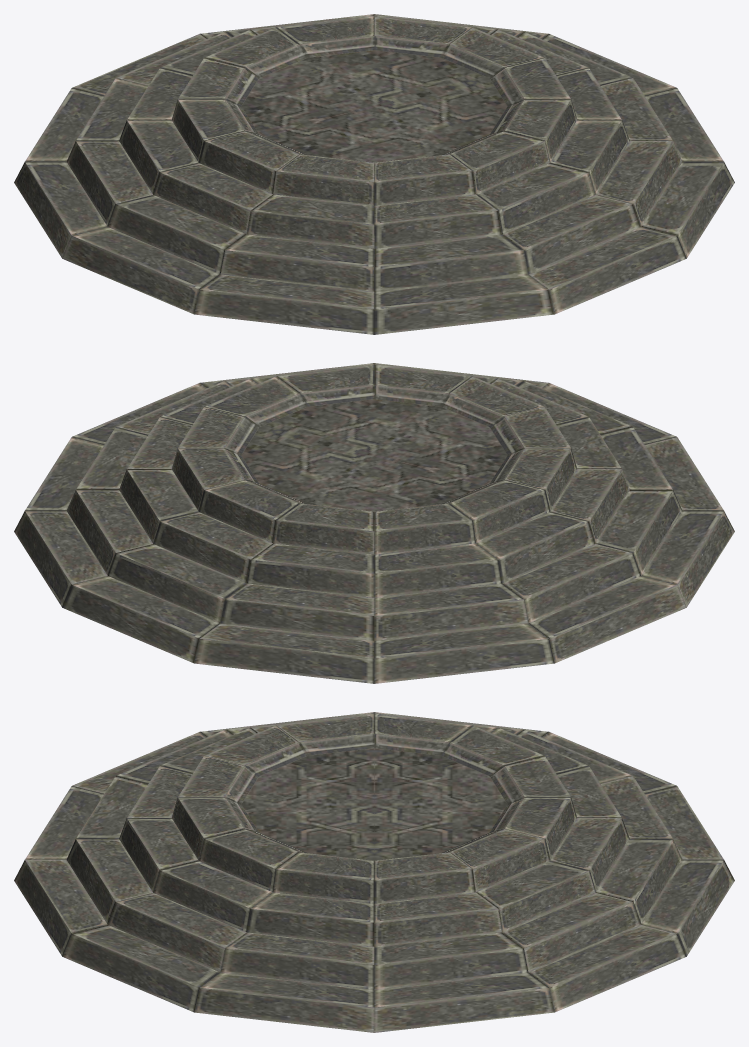
Rendered from platform.fbx.
3 views of the same model, one above another, from view 1: azimuth 30°, elevation 25°; view 2: azimuth 150°, elevation 25°; view 3: azimuth 270°, elevation 25° (orthographic).
Visible parts, largest first — view 1: Platform; view 2: Platform; view 3: Platform.
Part boxes in pixels (x1=…): Platform: x1=14, y1=14, x2=734, y2=334; Platform: x1=14, y1=363, x2=734, y2=683; Platform: x1=14, y1=712, x2=734, y2=1032.
Size of the model in its own units: 1449 by 185 by 1449.
